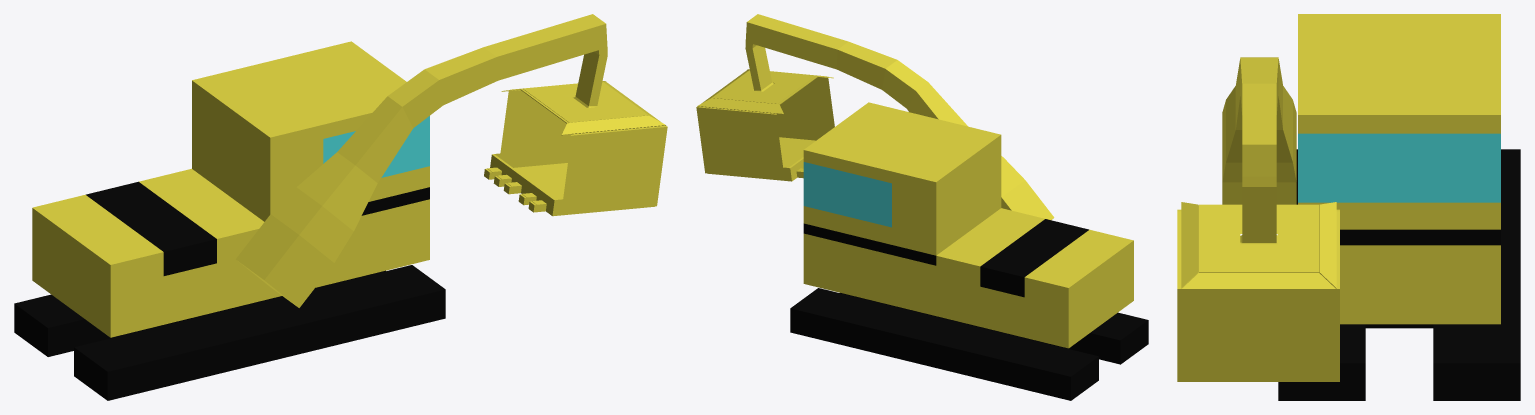
The model's file is crane 1.fbx.
The picture shows the model from 3 angles, left to right: view 1: azimuth 30°, elevation 25°; view 2: azimuth 150°, elevation 25°; view 3: azimuth 270°, elevation 25°; orthographic projection. The views are drawn at different scales.
Visible parts, largest first — view 1: Cube.002, Cube.003, Cube.001; view 2: Cube.002, Cube.001, Cube.003; view 3: Cube.002, Cube.001, Cube.003.
Boxes of the visible parts, bbox=[...] form: Cube.002: bbox=[14, 41, 445, 400]; Cube.003: bbox=[236, 14, 607, 307]; Cube.001: bbox=[484, 81, 667, 216]; Cube.002: bbox=[790, 102, 1148, 400]; Cube.001: bbox=[696, 69, 834, 181]; Cube.003: bbox=[745, 14, 1054, 219]; Cube.002: bbox=[1278, 14, 1520, 400]; Cube.001: bbox=[1177, 202, 1339, 381]; Cube.003: bbox=[1222, 57, 1296, 243].
Size of the model in its own units: 1544 by 763 by 680.
